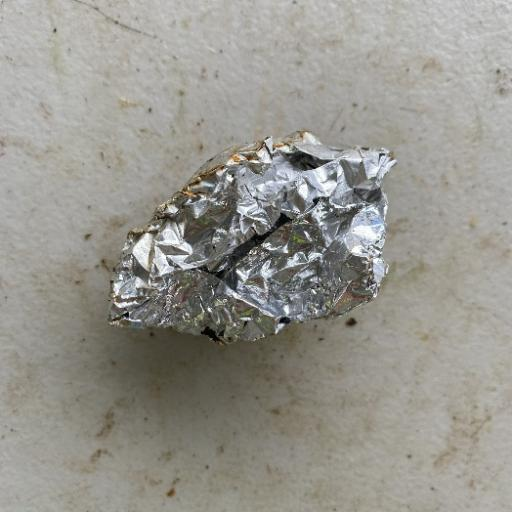Metal: (106, 128, 398, 346)
